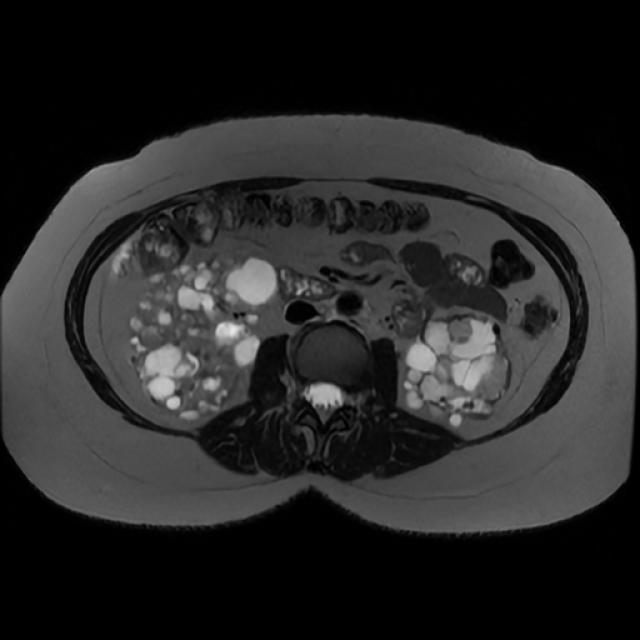sag: (125, 254, 285, 424)
sol: (397, 314, 514, 429)
